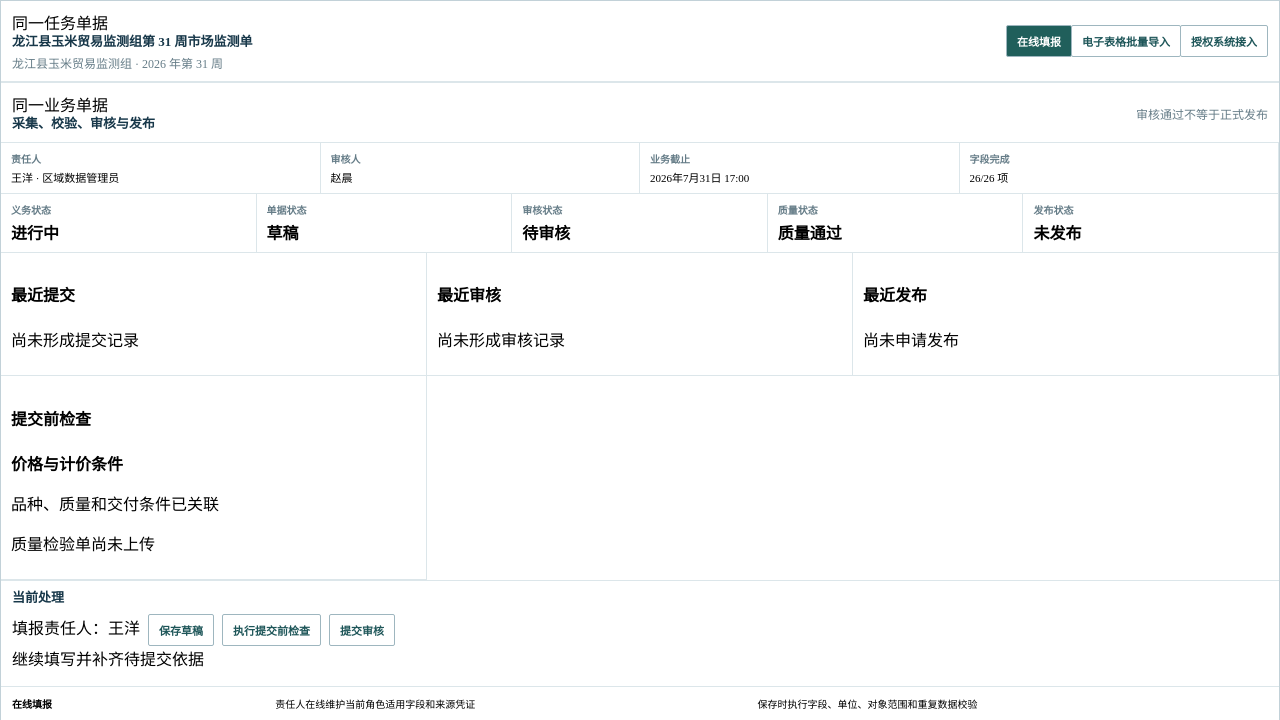
Test: market document workbench lifecycle actions › keeps responsible-person submission separate from review
What coordinates should you click on to do the following:
click the button "提交审核"
I would click on:
 (362, 630)
Its box is x1=329 y1=614 x2=395 y2=646.
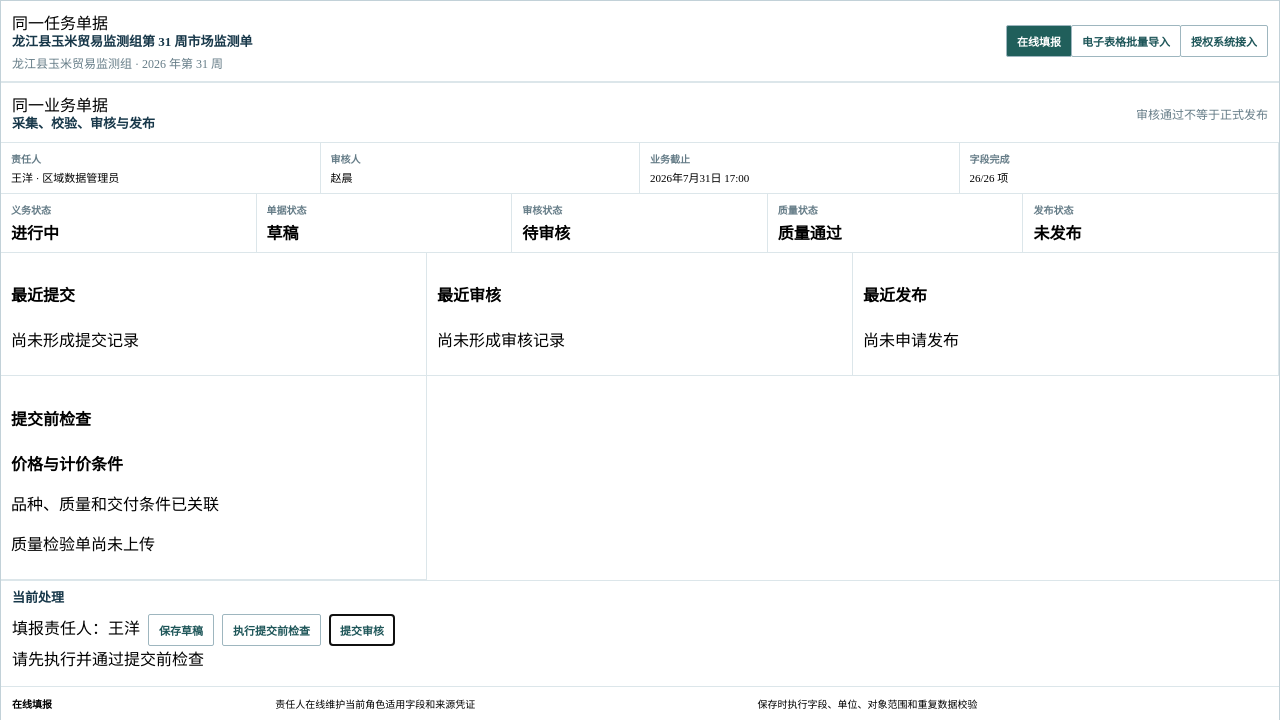
Result: the message reads "请先执行并通过提交前检查" at x1=12 y1=651 x2=204 y2=668
What coordinates should you click on to do the following:
click the button "执行提交前检查"
I would click on:
 (272, 630)
Its box is x1=222 y1=614 x2=321 y2=646.
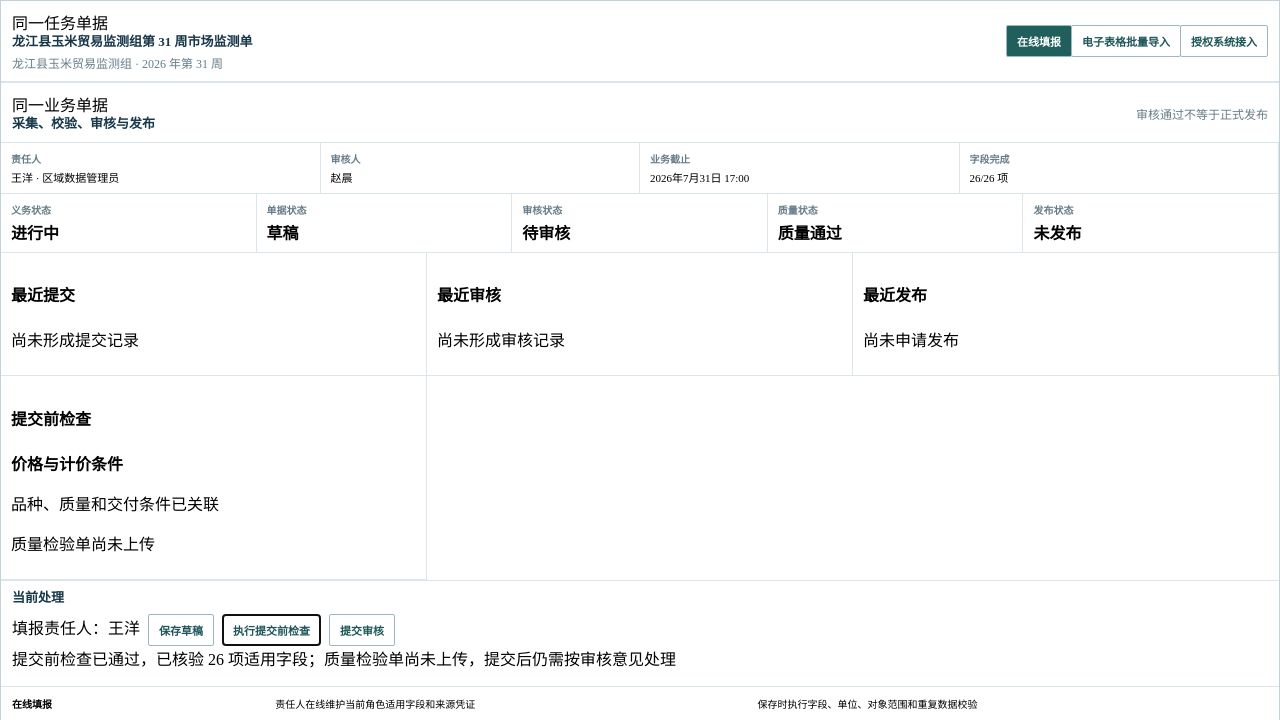
Result: the message shows "提交前检查已通过" at x1=12 y1=651 x2=676 y2=668
What coordinates should you click on to do the following:
click the button "提交审核"
I would click on:
 (362, 630)
Its box is x1=329 y1=614 x2=395 y2=646.
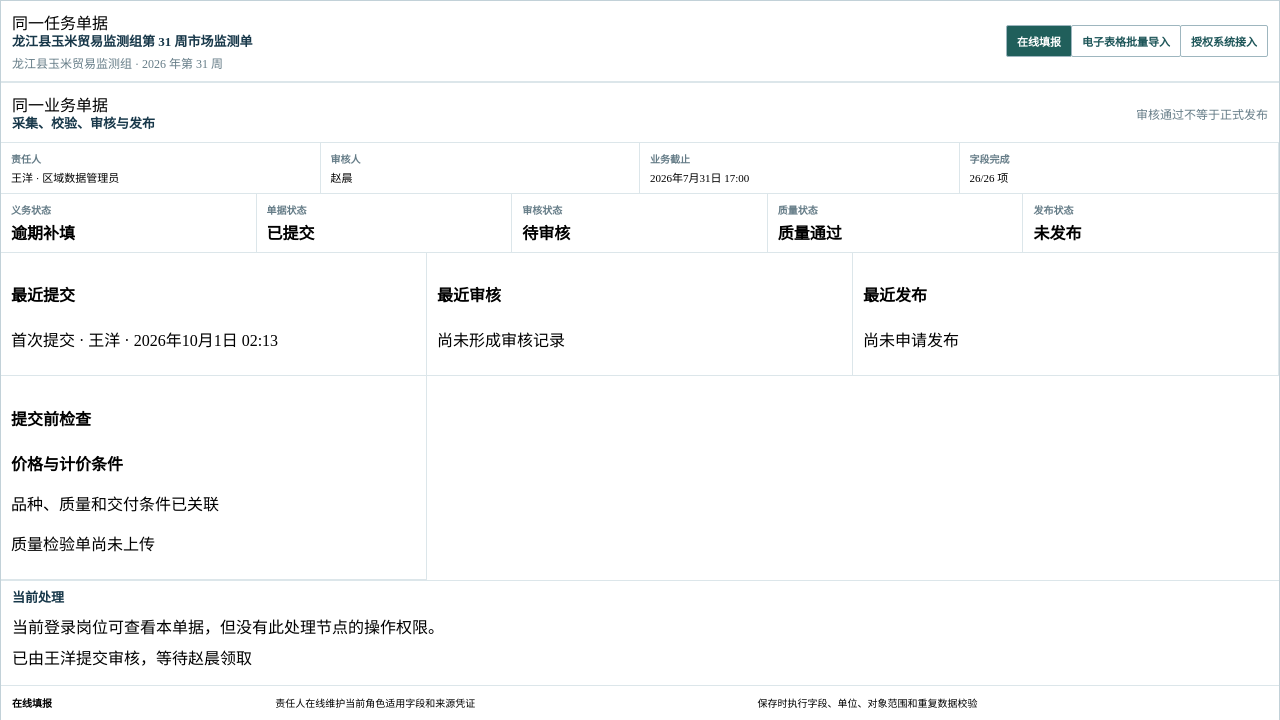
Expected: the element named "任务五状态" shows "待审核", x1=522 y1=225 x2=570 y2=242
Result: the element named "任务五状态" shows "已提交" at x1=267 y1=225 x2=315 y2=242
Result: the text "当前登录岗位可查看本单据，但没有此处理节点的操作权限。" is shown at x1=12 y1=619 x2=444 y2=636
